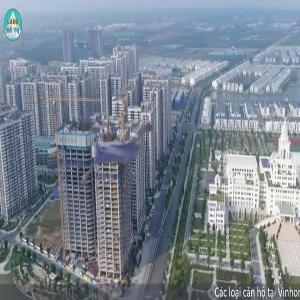drone: (72, 89, 176, 193)
